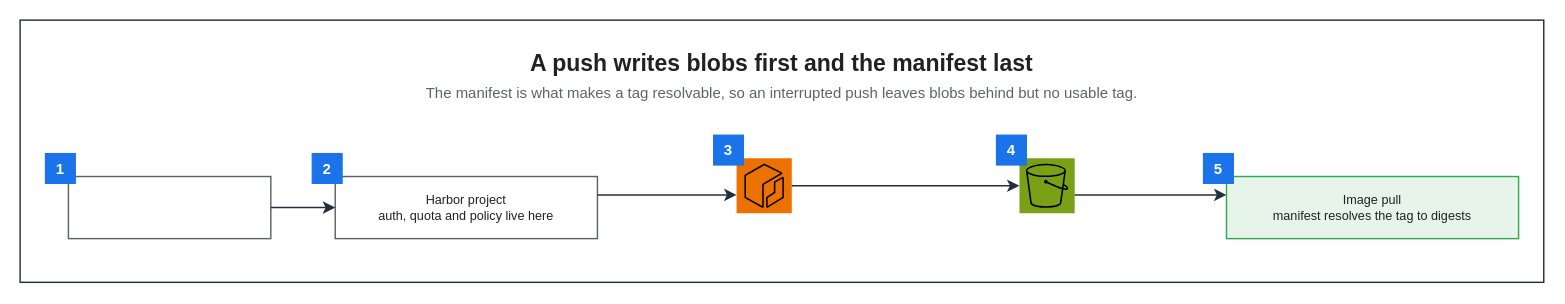
The diagram is 1565 pixels wide and 304 high, and some of its shapes have lost their labels. The shapes that lost their labels are listed below. From the top down, each one's centre as x and y in pixels, then its label:
(763,185): Registry distribution API
(1046,185): Blob storage layers deduplicated by digest
(169,207): Docker client docker push
